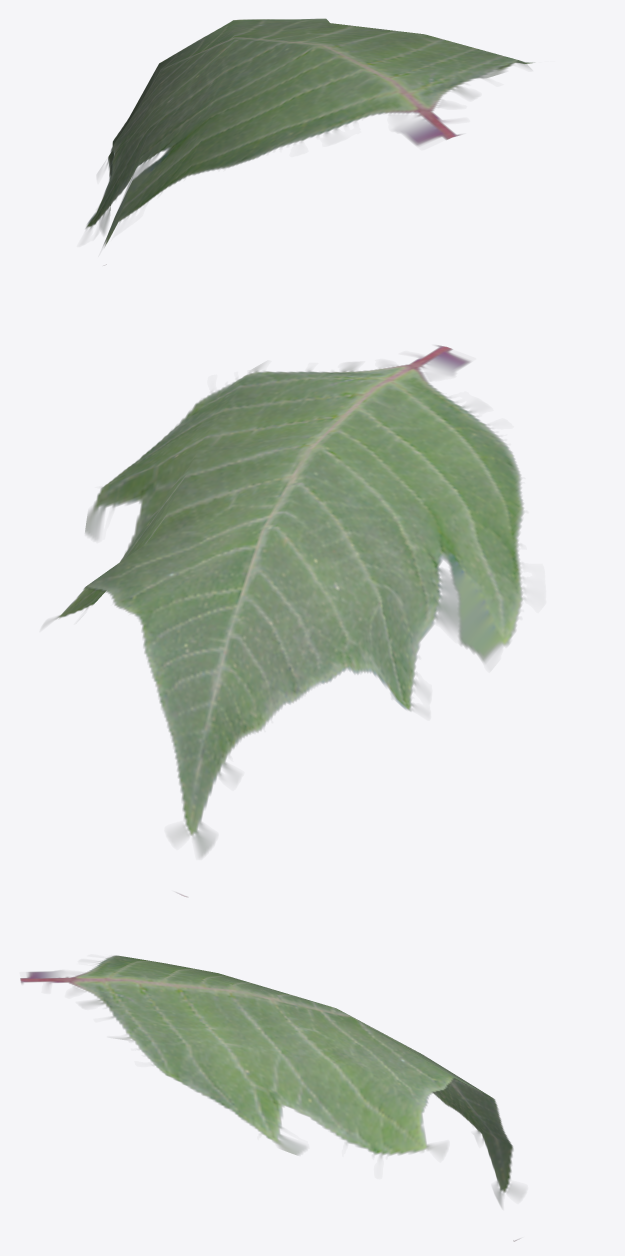
The model's file is leaf05M.glb.
3 views of the same model, one above another, from view 1: azimuth 30°, elevation 25°; view 2: azimuth 150°, elevation 25°; view 3: azimuth 270°, elevation 25° (orthographic). The views are drawn at different scales.
Visible parts, largest first — view 1: leaf_05; view 2: leaf_05; view 3: leaf_05.
Part boxes in pixels (x1=…): leaf_05: x1=85, y1=18, x2=534, y2=264; leaf_05: x1=45, y1=345, x2=523, y2=896; leaf_05: x1=20, y1=955, x2=518, y2=1241.
Bounding box in the file's own units: 1.34 × 0.9783 × 1.87.
1 material, 1 textured.
